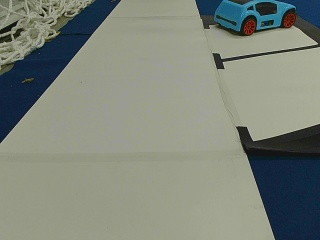car: (213, 1, 297, 35)
